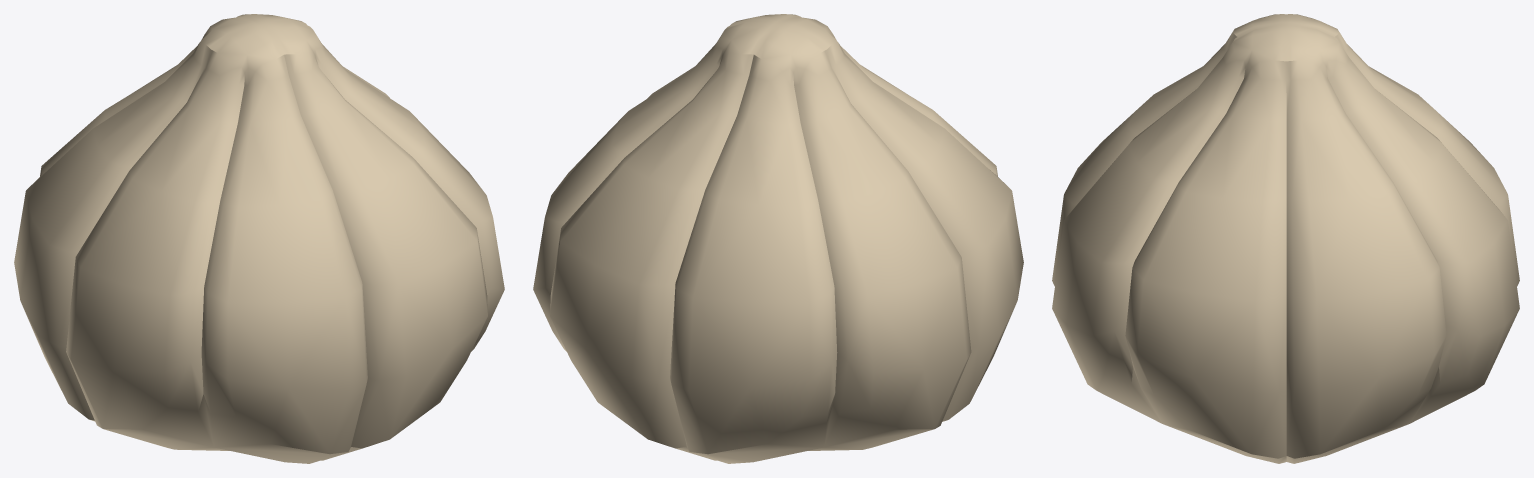
Rendered from Chukaman.glb.
3 renders of one model, left to right at view 1: azimuth 30°, elevation 25°; view 2: azimuth 150°, elevation 25°; view 3: azimuth 270°, elevation 25°, orthographic.
Parts seen in each view (by area): view 1: Food_Chukaman; view 2: Food_Chukaman; view 3: Food_Chukaman.
Boxes of the visible parts, left/top/right/bottom form: Food_Chukaman: left=14, top=14, right=504, bottom=463; Food_Chukaman: left=533, top=14, right=1023, bottom=463; Food_Chukaman: left=1052, top=14, right=1519, bottom=463.
Size of the model in its own units: 0.2686 by 0.2621 by 0.2686.
1 material, 1 textured.
